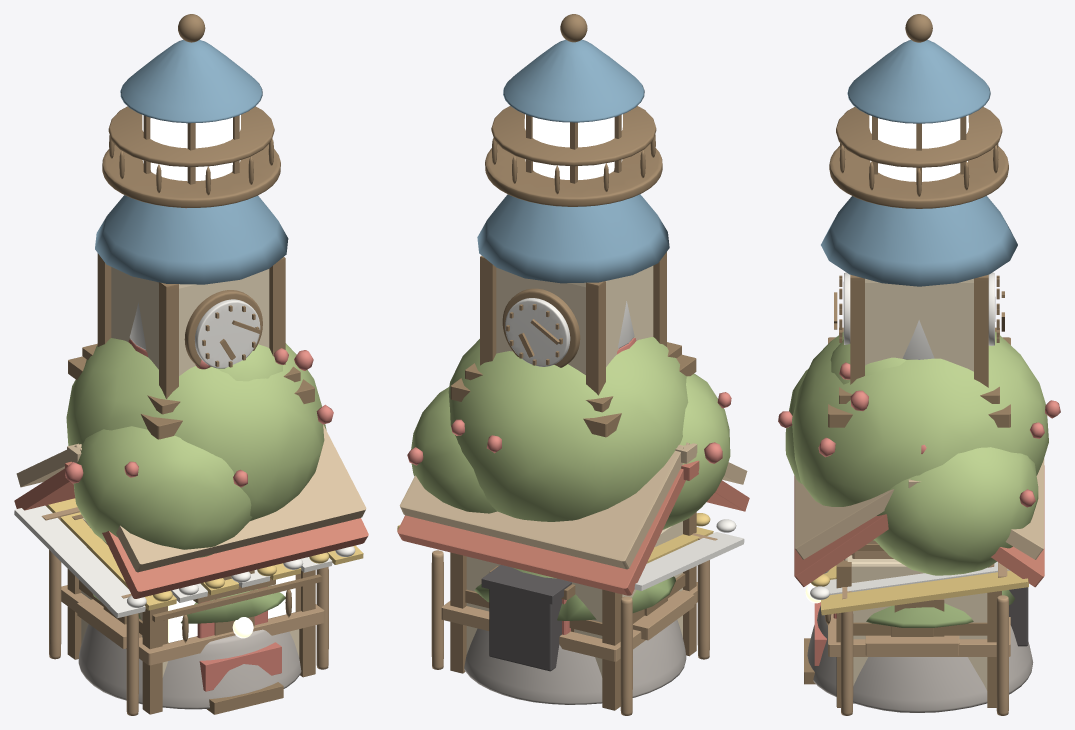
File: somewhere-kit.glb
The picture shows the model from 3 angles, left to right: view 1: azimuth 30°, elevation 25°; view 2: azimuth 150°, elevation 25°; view 3: azimuth 270°, elevation 25°; orthographic projection.
Parts seen in each view (by area): view 1: TREE_leaf, CLOK_roof, LITE_timber, CLOK_timber, CABN_roof, LITE_stone, LITE_cap, HOUS_roof, CLOK_wall, STAL_cream, HOUS_timber, STAL_wood (+9 smaller); view 2: TREE_leaf, CLOK_roof, LITE_timber, CABN_roof, CLOK_timber, HOUS_roof, LITE_stone, LITE_cap, LOCO_black, CLOK_wall, STAL_wood, HOUS_timber (+8 smaller); view 3: TREE_leaf, CLOK_roof, LITE_timber, LITE_stone, LITE_cap, CLOK_wall, CABN_roof, CLOK_timber, STAL_wood, STAL_gold, HOUS_roof, HOUS_timber (+10 smaller).
Part boxes in pixels (<box>): TREE_leaf: <box>66,338,326,557</box>; CLOK_roof: <box>95,195,288,284</box>; LITE_timber: <box>102,14,280,635</box>; CLOK_timber: <box>68,253,314,439</box>; CABN_roof: <box>16,425,366,572</box>; LITE_stone: <box>78,624,301,709</box>; LITE_cap: <box>120,40,262,123</box>; HOUS_roof: <box>14,461,368,598</box>; CLOK_wall: <box>111,267,269,375</box>; STAL_cream: <box>14,505,355,618</box>; HOUS_timber: <box>67,514,315,714</box>; STAL_wood: <box>41,507,328,715</box>; TREE_leaf: <box>411,337,730,529</box>; CLOK_roof: <box>477,194,669,283</box>; LITE_timber: <box>485,14,662,206</box>; CABN_roof: <box>399,442,747,569</box>; CLOK_timber: <box>450,252,696,437</box>; HOUS_roof: <box>397,460,749,595</box>; LITE_stone: <box>464,619,686,704</box>; LITE_cap: <box>503,39,644,122</box>; LOCO_black: <box>481,565,571,671</box>; CLOK_wall: <box>496,266,653,374</box>; STAL_wood: <box>431,533,717,715</box>; HOUS_timber: <box>450,512,696,710</box>; TREE_leaf: <box>785,331,1048,575</box>; CLOK_roof: <box>821,195,1017,286</box>; LITE_timber: <box>829,14,1008,208</box>; LITE_stone: <box>807,605,1033,712</box>; LITE_cap: <box>847,40,990,123</box>; CLOK_wall: <box>865,278,973,371</box>; CABN_roof: <box>794,458,1044,559</box>; CLOK_timber: <box>828,274,1010,555</box>; STAL_wood: <box>840,560,1008,715</box>; STAL_gold: <box>811,565,1028,615</box>; HOUS_roof: <box>794,465,1044,587</box>; HOUS_timber: <box>804,560,1001,707</box>.
Size of the model in its own units: 1.18 by 2.68 by 1.05.
